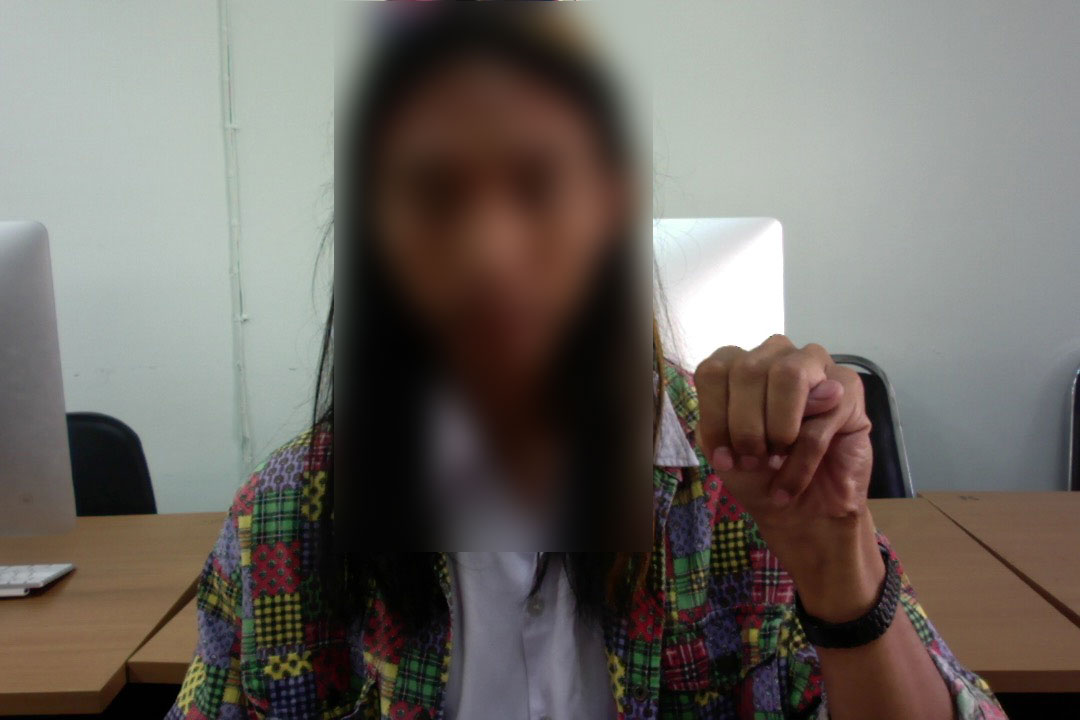mor: (686, 330, 883, 558)
